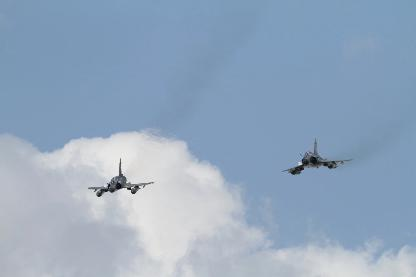Mirage2000: (86, 157, 154, 196), (282, 137, 352, 174)
